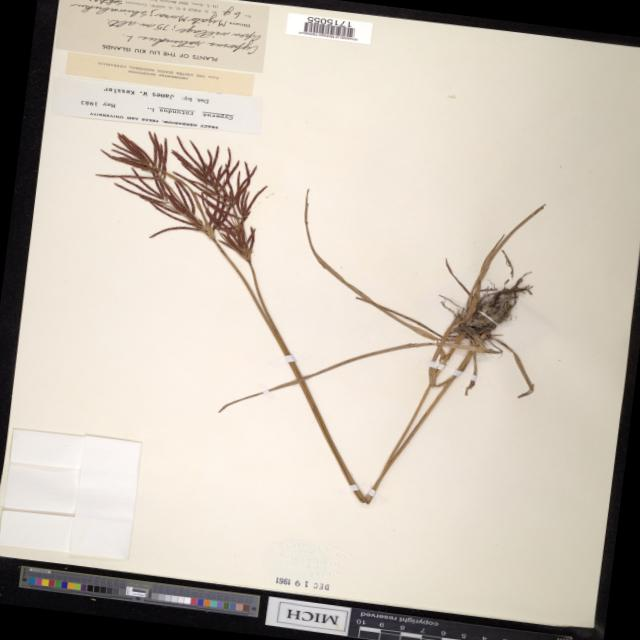cyperus: (82, 124, 290, 274)
